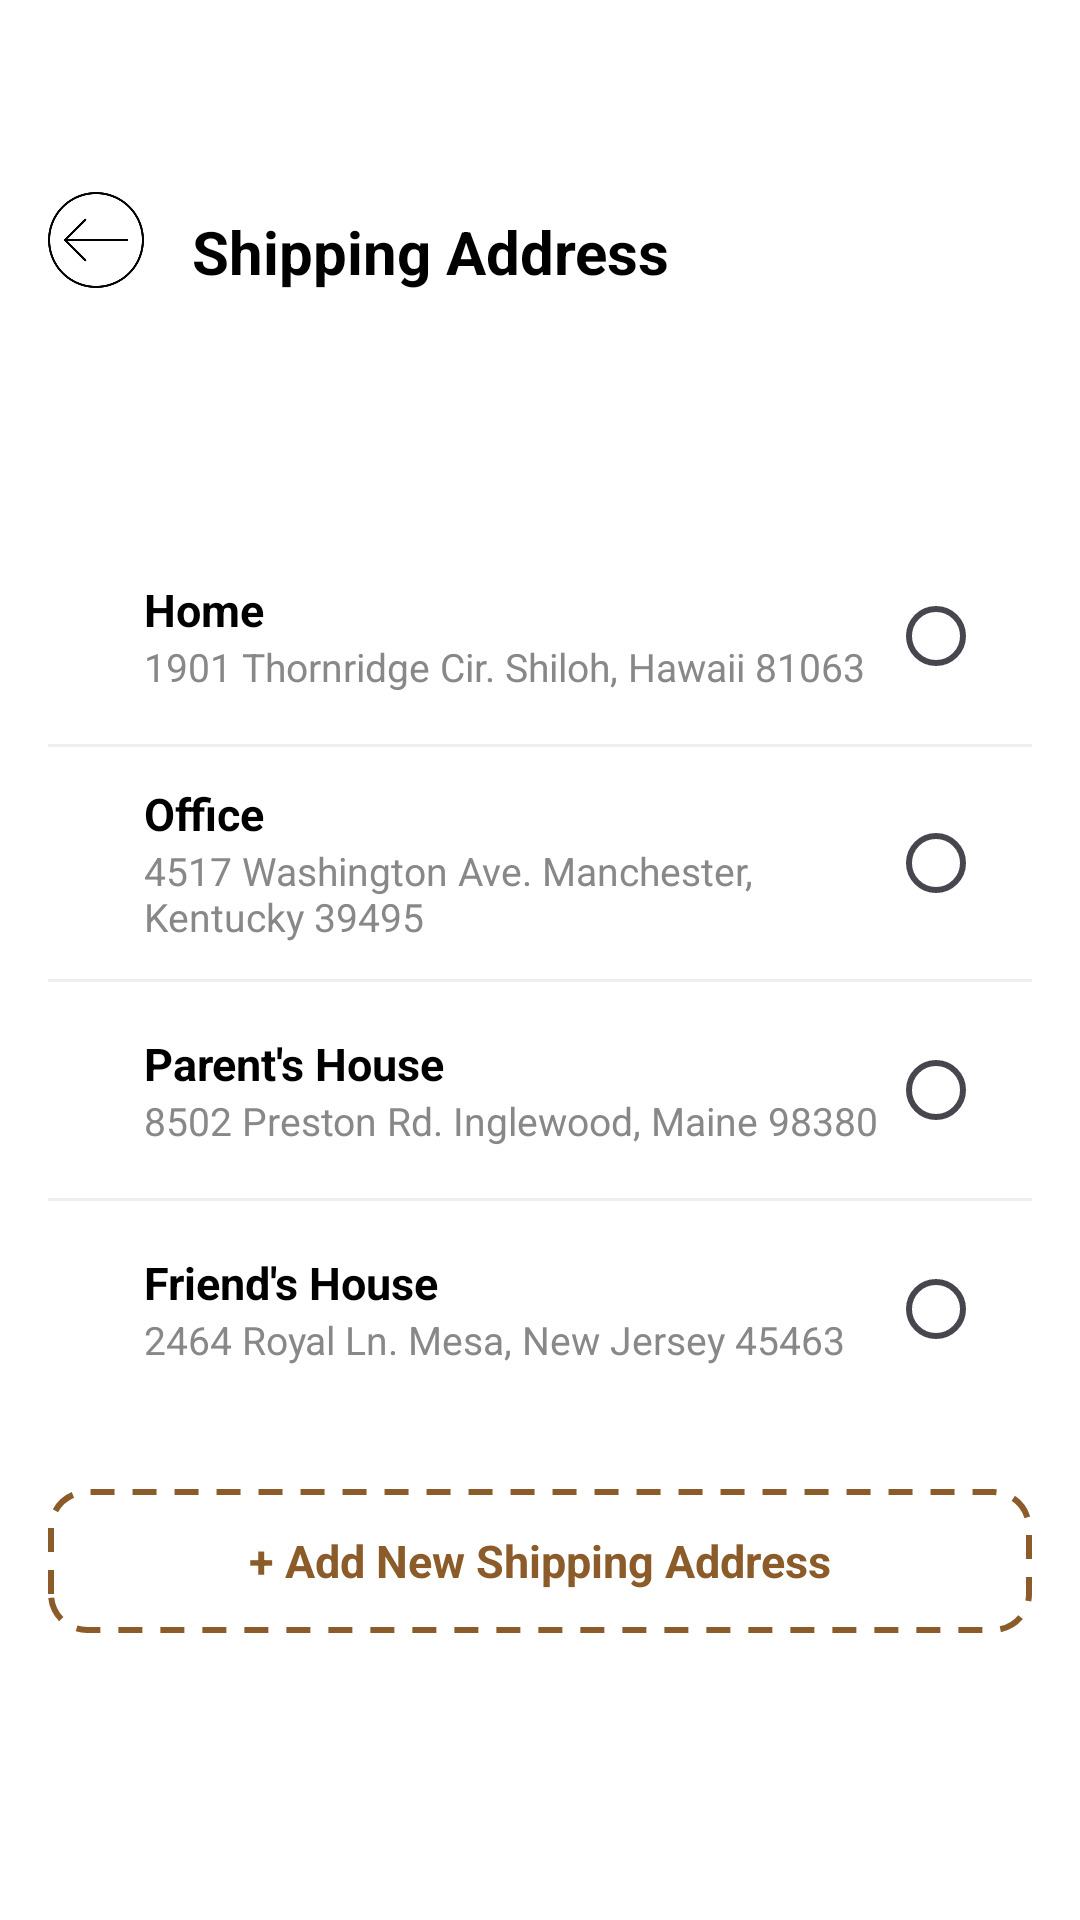

Locate icon controls on the screen. Image size 1080*1920, boxes as (x1, y1, x2, y2).
Back: (48, 192, 144, 288)
